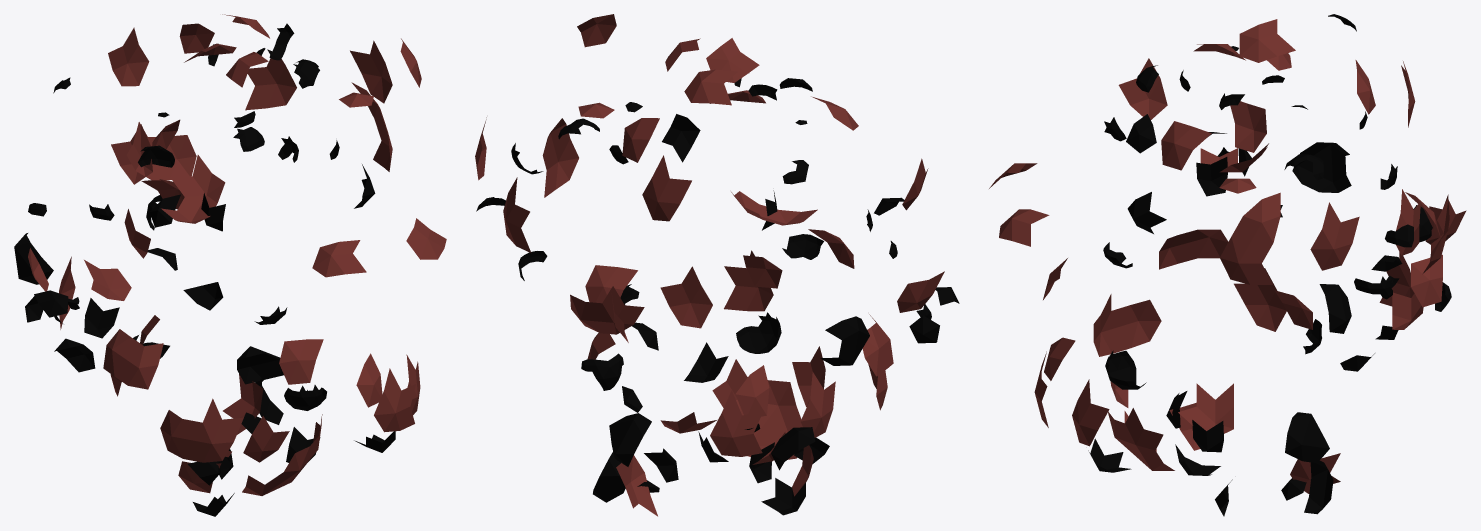
File: explode.f0014.glb
The picture shows the model from 3 angles, left to right: view 1: azimuth 30°, elevation 25°; view 2: azimuth 150°, elevation 25°; view 3: azimuth 270°, elevation 25°; orthographic projection. The views are drawn at different scales.
Visible parts, largest first — view 1: Body.001; view 2: Body.001; view 3: Body.001.
Boxes of the visible parts, <box> form: Body.001: <box>14,14,446,516</box>; Body.001: <box>475,14,959,516</box>; Body.001: <box>989,14,1466,516</box>.
Size of the model in its own units: 6.45 by 7.05 by 6.36.
Materials: 1 (1 with a texture image).
